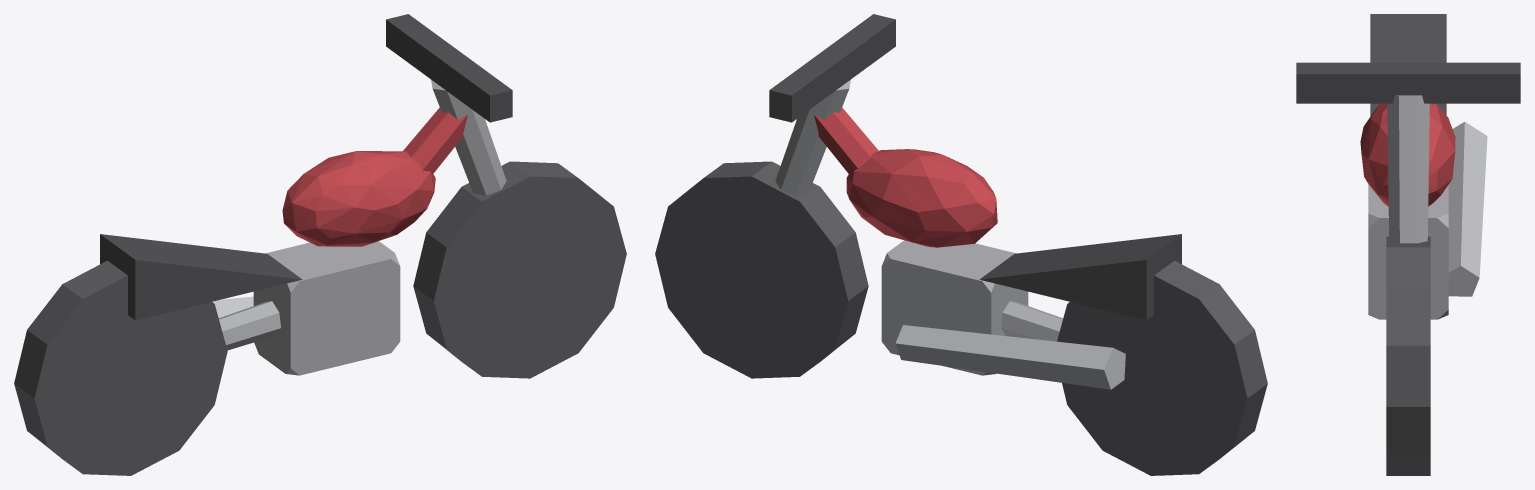
The picture shows the model from 3 angles, left to right: view 1: azimuth 30°, elevation 25°; view 2: azimuth 150°, elevation 25°; view 3: azimuth 270°, elevation 25°; orthographic projection. The views are drawn at different scales.
Visible parts, largest first — view 1: part0, part1, part2, part3, part4, part7, part5, part6, part8; view 2: part0, part1, part3, part2, part4, part9, part7, part5, part6, part8; view 3: part0, part7, part5, part9, part2, part3, part4.
Boxes of the visible parts, box(x1,y1,x2,y2) form: part0: box(413, 161, 626, 378); part1: box(14, 260, 227, 475); part2: box(253, 241, 400, 375); part3: box(282, 151, 435, 246); part4: box(100, 234, 302, 320); part7: box(386, 14, 512, 122); part5: box(431, 79, 506, 195); part6: box(403, 107, 467, 174); part8: box(218, 301, 280, 350); part0: box(655, 161, 868, 378); part1: box(1057, 260, 1267, 475); part3: box(846, 149, 997, 247); part2: box(881, 240, 1028, 375); part4: box(979, 234, 1181, 320); part9: box(895, 325, 1125, 389); part7: box(769, 14, 895, 122); part5: box(775, 79, 850, 195); part6: box(814, 107, 878, 174); part8: box(1001, 301, 1063, 341); part0: box(1386, 236, 1430, 475); part7: box(1296, 62, 1520, 103); part5: box(1387, 95, 1429, 243); part9: box(1448, 122, 1487, 296); part2: box(1368, 184, 1448, 319); part3: box(1360, 103, 1455, 206); part4: box(1370, 14, 1446, 116).
Size of the model in its own units: 1.84 by 0.99 by 0.56.
